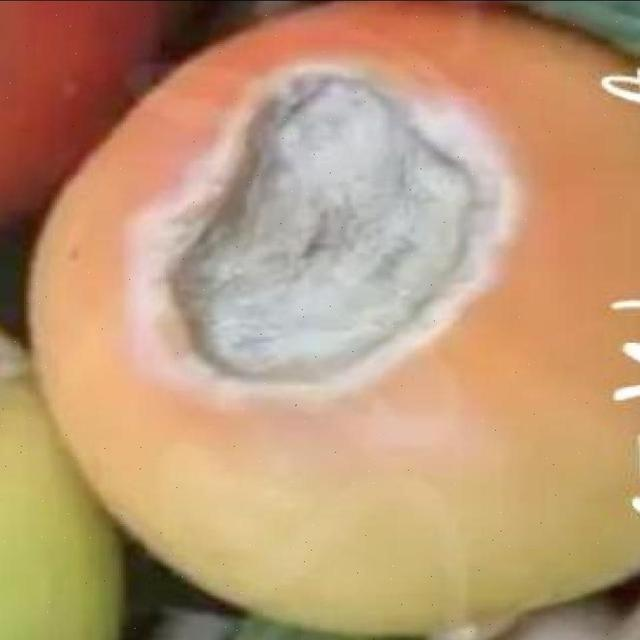Blossom End Rot Fruit: (92, 37, 358, 275)
